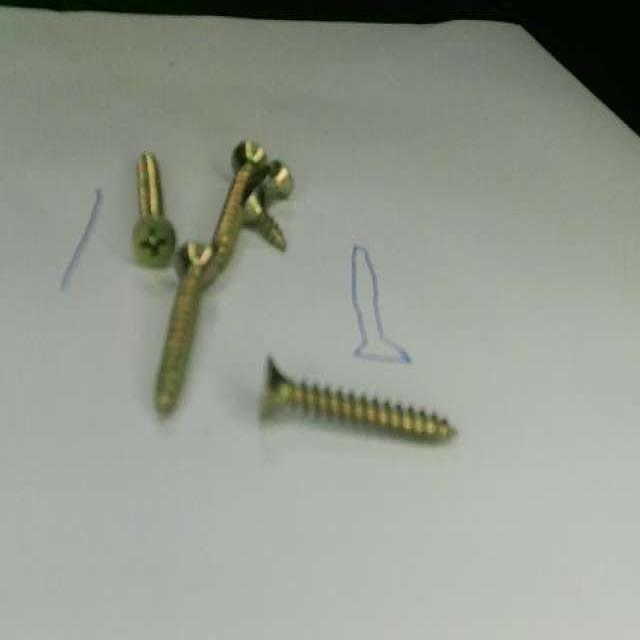Parafuso: (260, 358, 455, 442), (155, 238, 216, 409), (217, 135, 269, 264), (135, 150, 178, 263), (243, 185, 285, 246), (263, 157, 295, 201)
